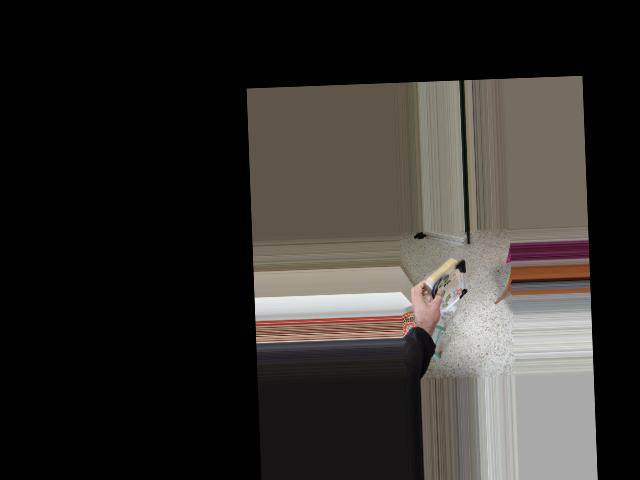cheese: (405, 243, 484, 311)
